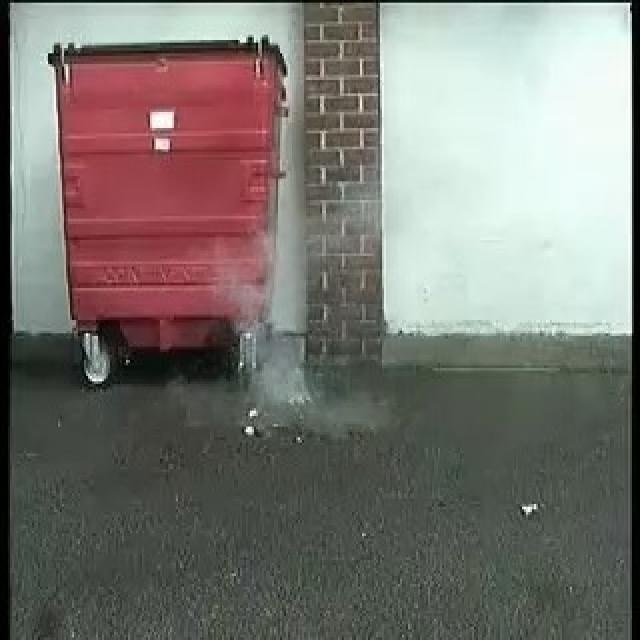smoke: (238, 262, 328, 422)
